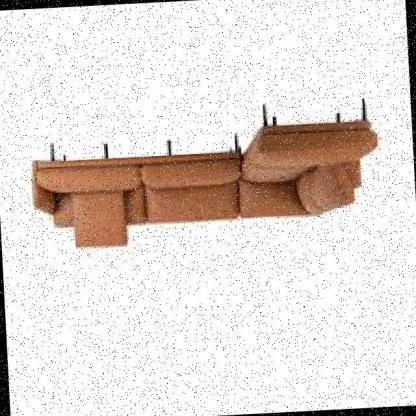Sofa: (21, 84, 400, 266)
